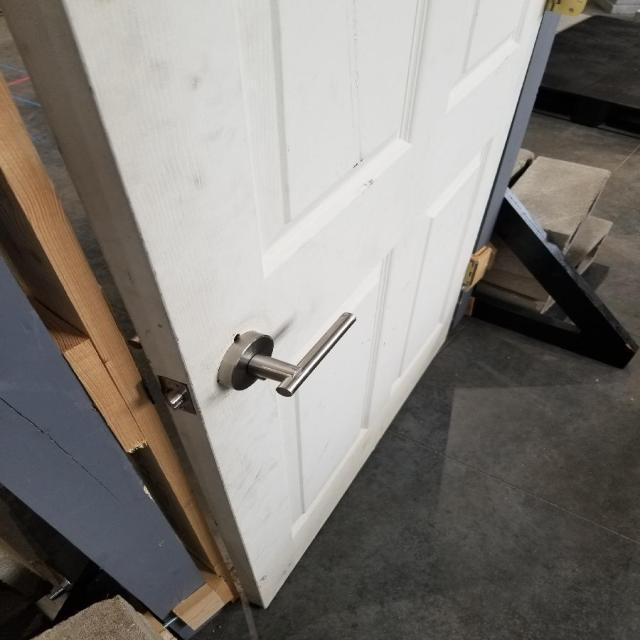door: (208, 308, 360, 406)
